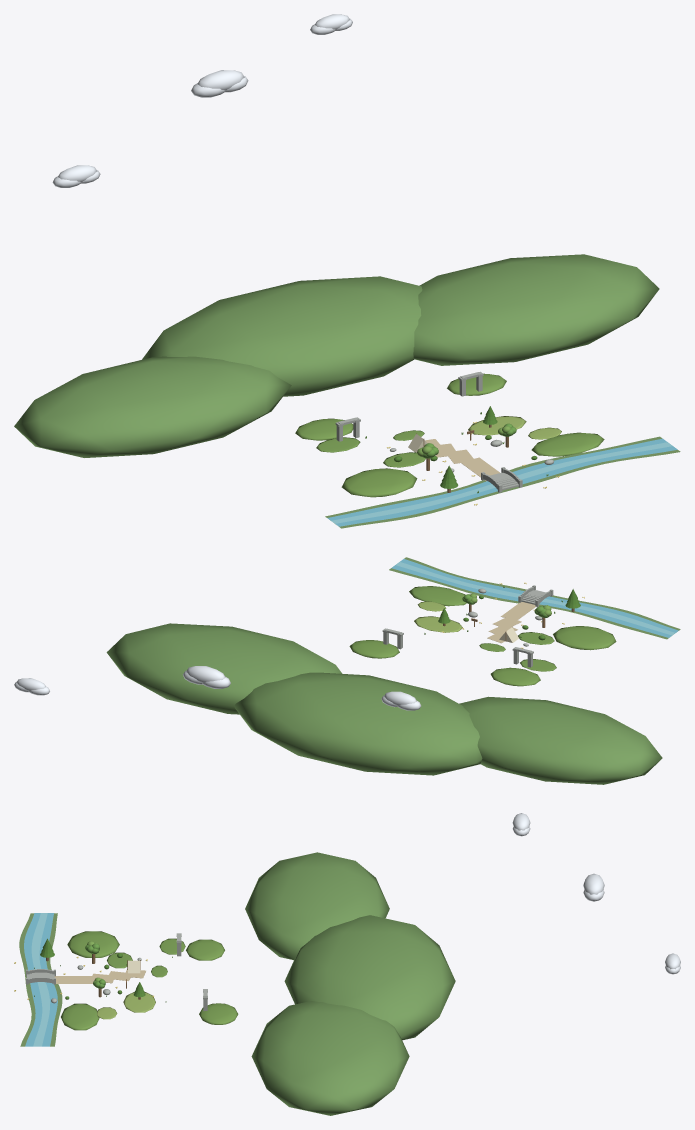
The model's file is environment-kit-no-keep.glb.
3 views of the same model, one above another, from view 1: azimuth 30°, elevation 25°; view 2: azimuth 150°, elevation 25°; view 3: azimuth 270°, elevation 25° (orthographic). The views are drawn at different scales.
Parts seen in each view (by area): view 1: environment_distant_hills, environment_meadow_shadow, environment_stream, environment_clouds, environment_river_banks, environment_stream_light, environment_stone, environment_meadow_light, environment_sand_path; view 2: environment_distant_hills, environment_meadow_shadow, environment_stream, environment_clouds, environment_river_banks, environment_stream_light, environment_stone, environment_meadow_light, environment_sand_path, environment_bush; view 3: environment_distant_hills, environment_meadow_shadow, environment_stream, environment_river_banks, environment_clouds, environment_stream_light, environment_stone, environment_meadow_light, environment_sand_path.
Part boxes in pixels (left/top/right/bottom): environment_distant_hills: left=14, top=254, right=659, bottom=457; environment_meadow_shadow: left=295, top=373, right=604, bottom=497; environment_stream: left=327, top=438, right=677, bottom=526; environment_clouds: left=52, top=14, right=352, bottom=187; environment_river_banks: left=325, top=436, right=680, bottom=528; environment_stream_light: left=331, top=442, right=672, bottom=523; environment_stone: left=335, top=371, right=553, bottom=492; environment_meadow_light: left=468, top=416, right=561, bottom=439; environment_sand_path: left=425, top=439, right=499, bottom=481; environment_distant_hills: left=106, top=623, right=662, bottom=784; environment_meadow_shadow: left=349, top=586, right=616, bottom=686; environment_stream: left=391, top=559, right=678, bottom=637; environment_clouds: left=14, top=666, right=421, bottom=710; environment_river_banks: left=389, top=557, right=680, bottom=639; environment_stream_light: left=396, top=562, right=675, bottom=635; environment_stone: left=382, top=585, right=553, bottom=667; environment_meadow_light: left=414, top=601, right=462, bottom=632; environment_sand_path: left=487, top=602, right=535, bottom=643; environment_bush: left=424, top=586, right=580, bottom=640; environment_distant_hills: left=245, top=852, right=455, bottom=1115; environment_meadow_shadow: left=61, top=931, right=238, bottom=1030; environment_stream: left=24, top=913, right=57, bottom=1046; environment_river_banks: left=19, top=913, right=62, bottom=1046; environment_clouds: left=512, top=813, right=680, bottom=974; environment_stream_light: left=31, top=913, right=50, bottom=1046; environment_stone: left=26, top=933, right=207, bottom=1011; environment_meadow_light: left=97, top=992, right=155, bottom=1019; environment_sand_path: left=54, top=969, right=145, bottom=983.
Bounding box in the file's own units: 90.09 × 25.56 × 101.
